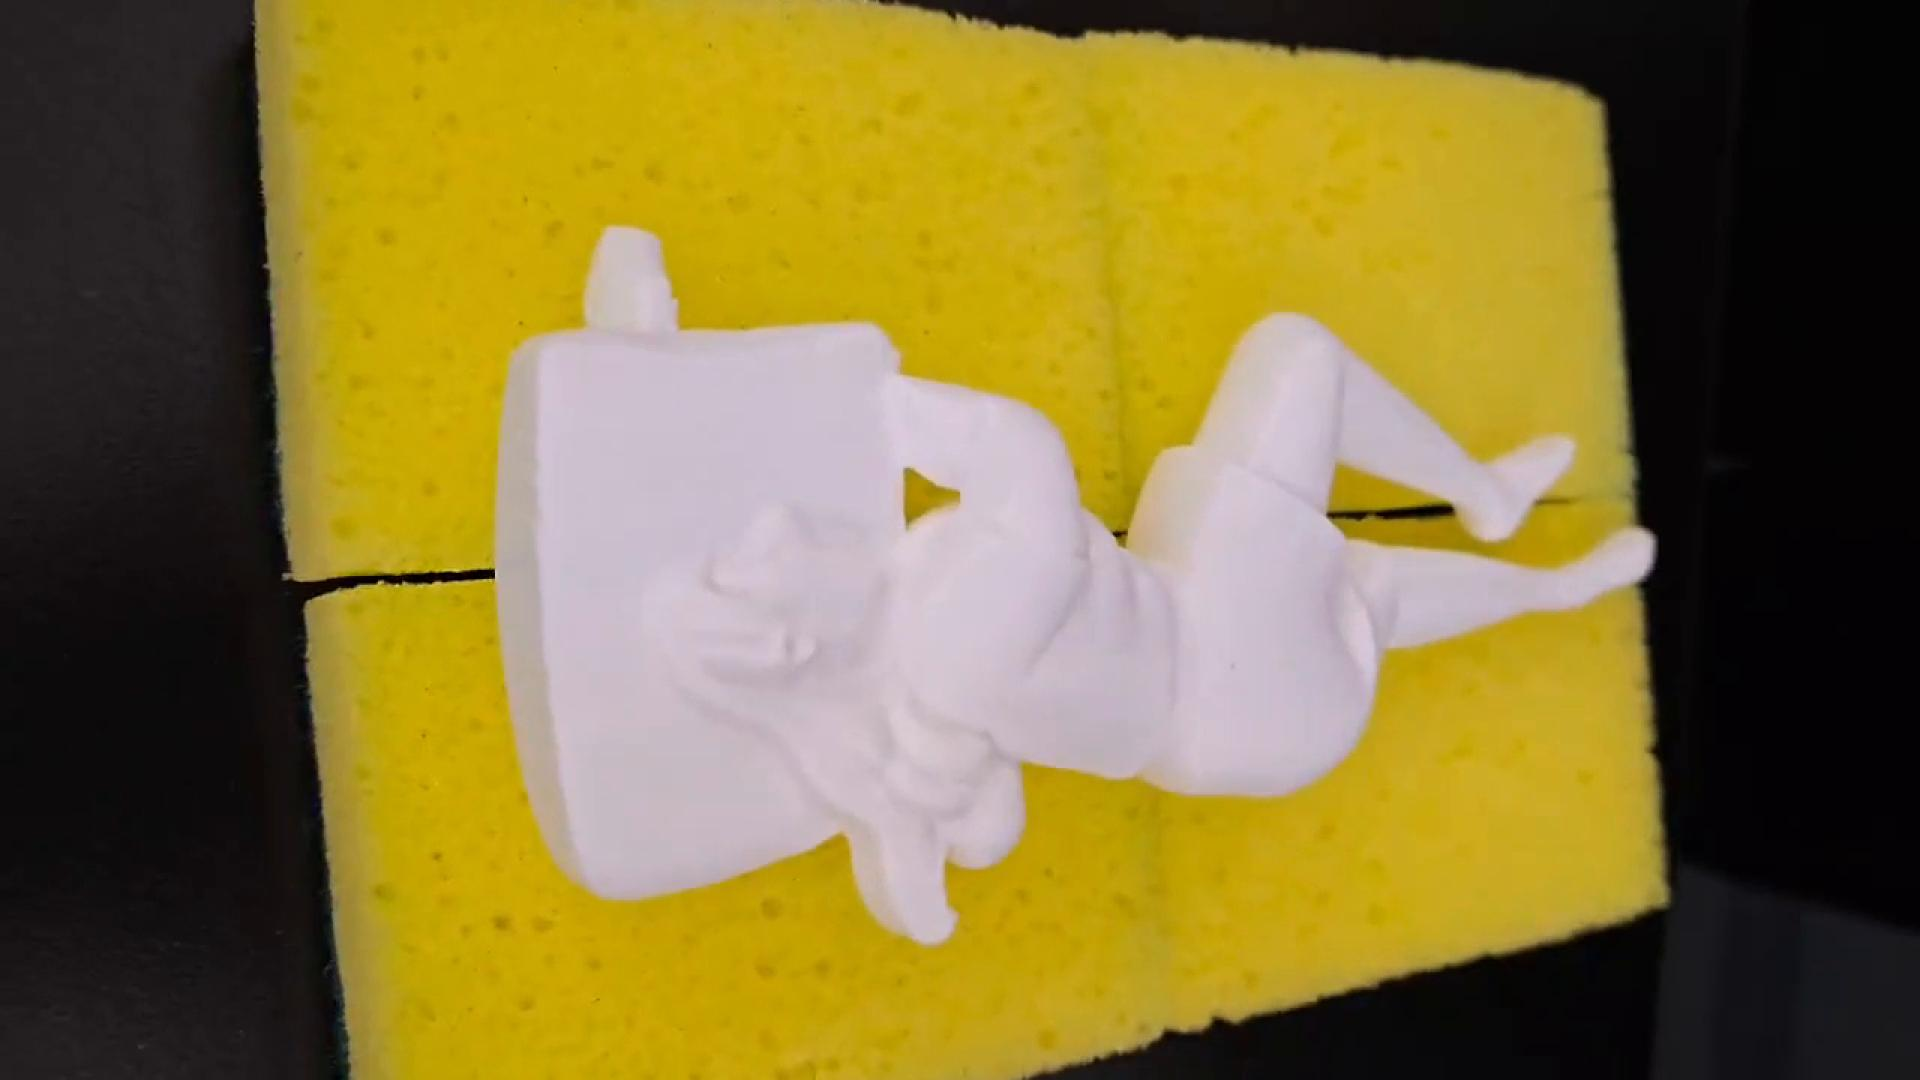Good-style: (497, 218, 1660, 947)
